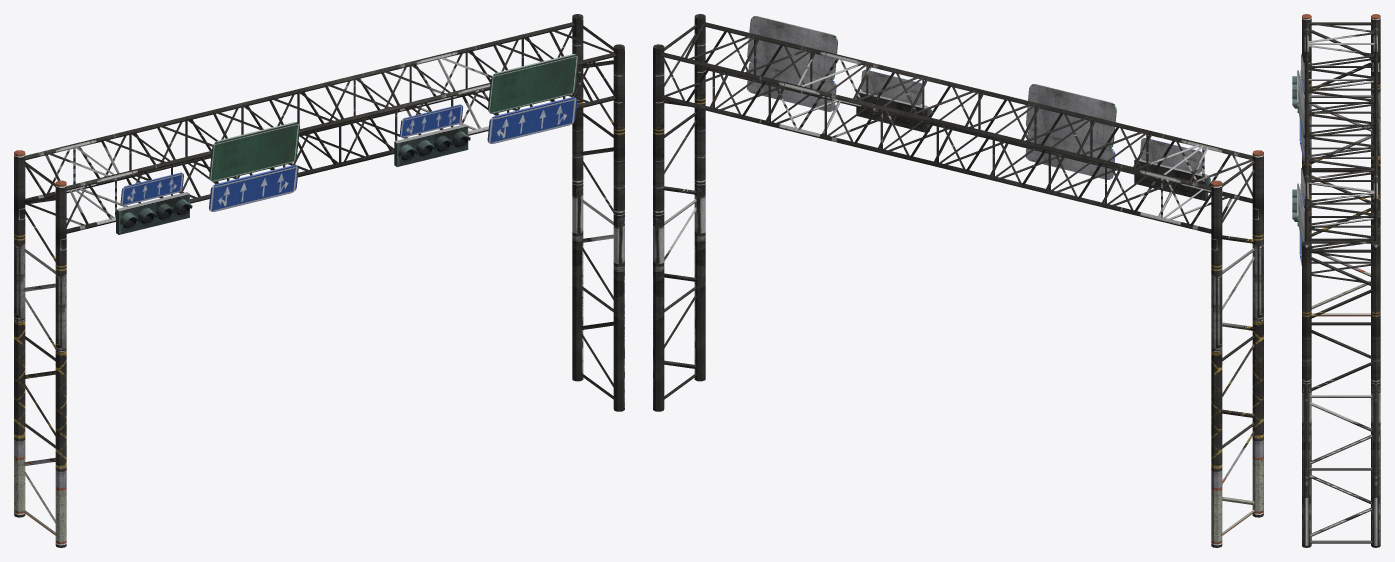
The model's file is traffic2.glb.
3 views of the same model, side by side, from view 1: azimuth 30°, elevation 25°; view 2: azimuth 150°, elevation 25°; view 3: azimuth 270°, elevation 25° (orthographic). The views are drawn at different scales.
Visible parts, largest first — view 1: hang_04, hang_04_1; view 2: hang_04, hang_04_1; view 3: hang_04, hang_04_1.
Part boxes in pixels (x1,y1,x2,y2): hang_04: [14, 14, 624, 547]; hang_04_1: [116, 54, 578, 234]; hang_04: [653, 14, 1263, 547]; hang_04_1: [747, 16, 1210, 200]; hang_04: [1302, 14, 1380, 547]; hang_04_1: [1292, 54, 1304, 265].
Size of the model in its own units: 255 by 159 by 41.21.
1 material, 1 textured.
